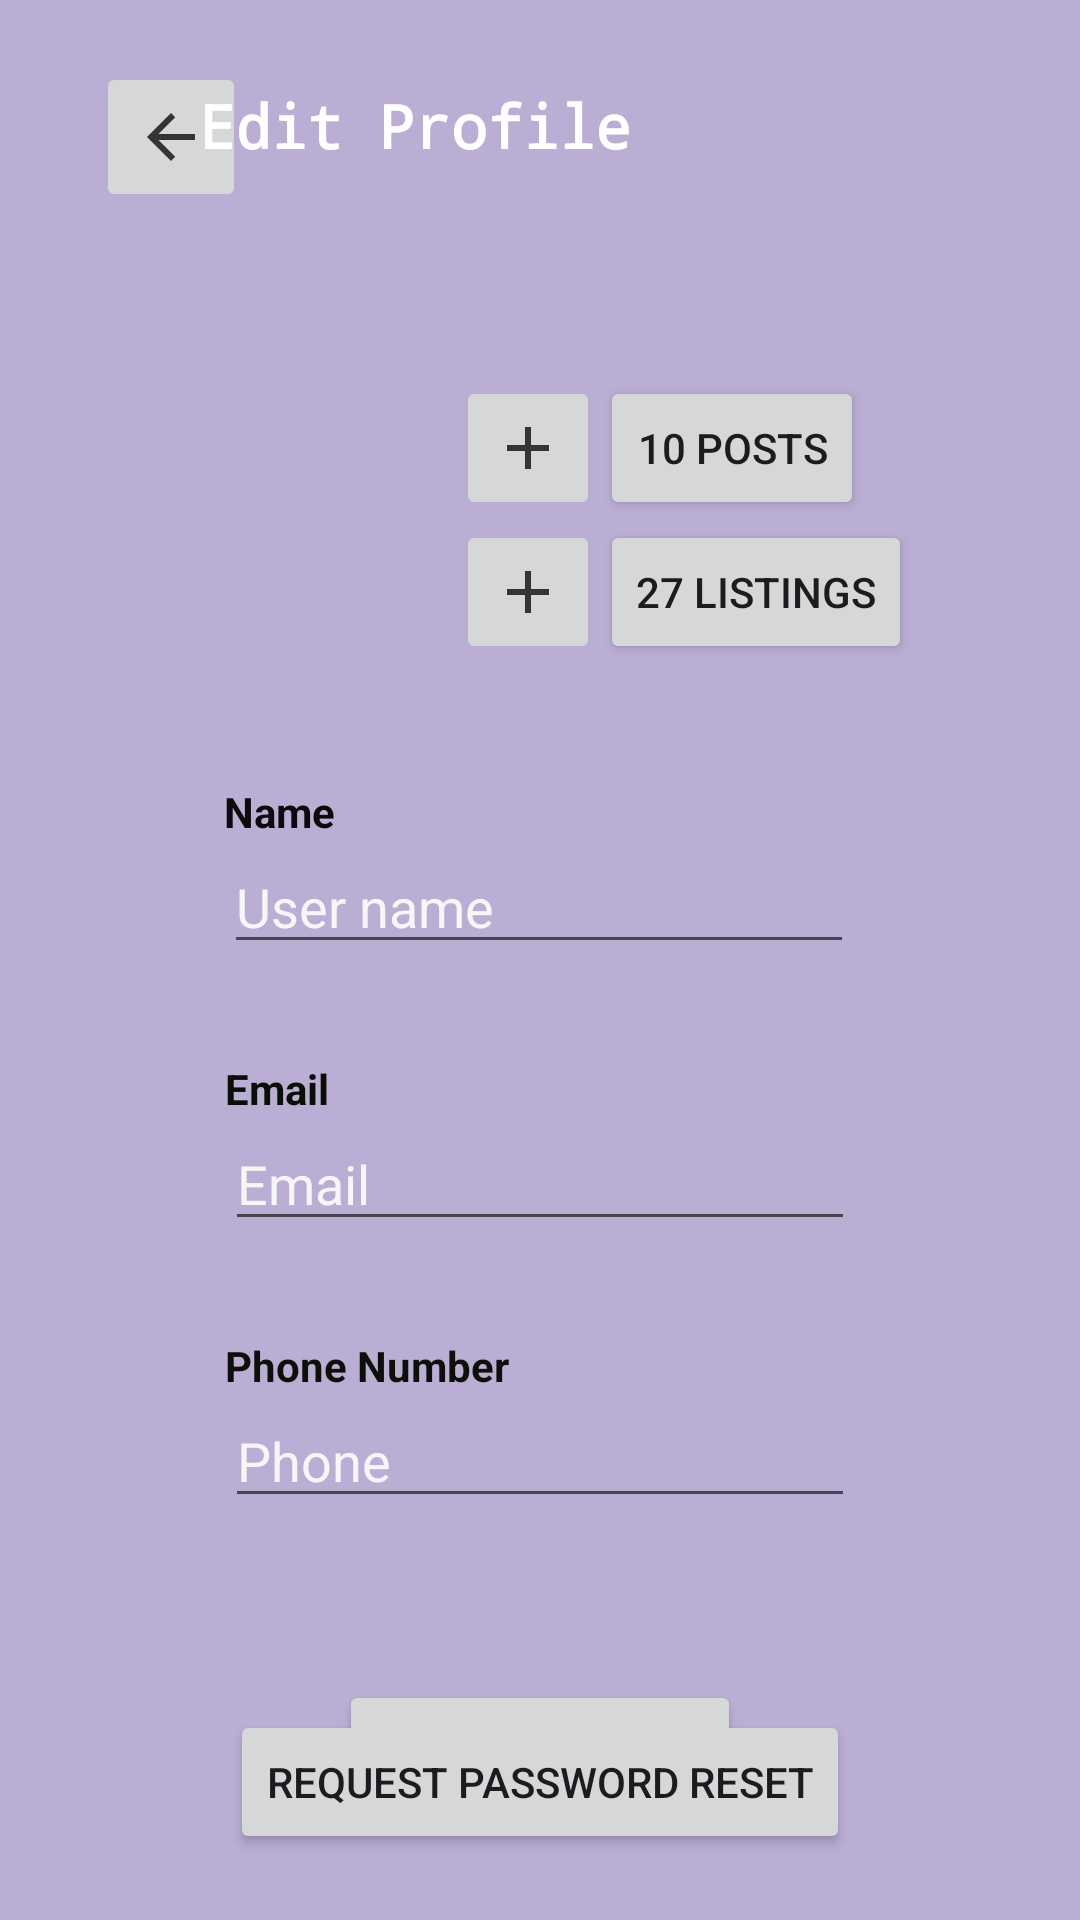

Icons on this 1080 × 1920 Android screen, each with its box as (x1, y1, x2, y2):
addbtn: (468, 394, 588, 502), (468, 538, 588, 646)
backbtn: (108, 80, 234, 194)
